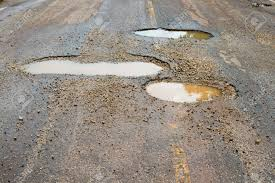pothole: (16, 46, 179, 93), (144, 77, 242, 112), (125, 21, 230, 51)
